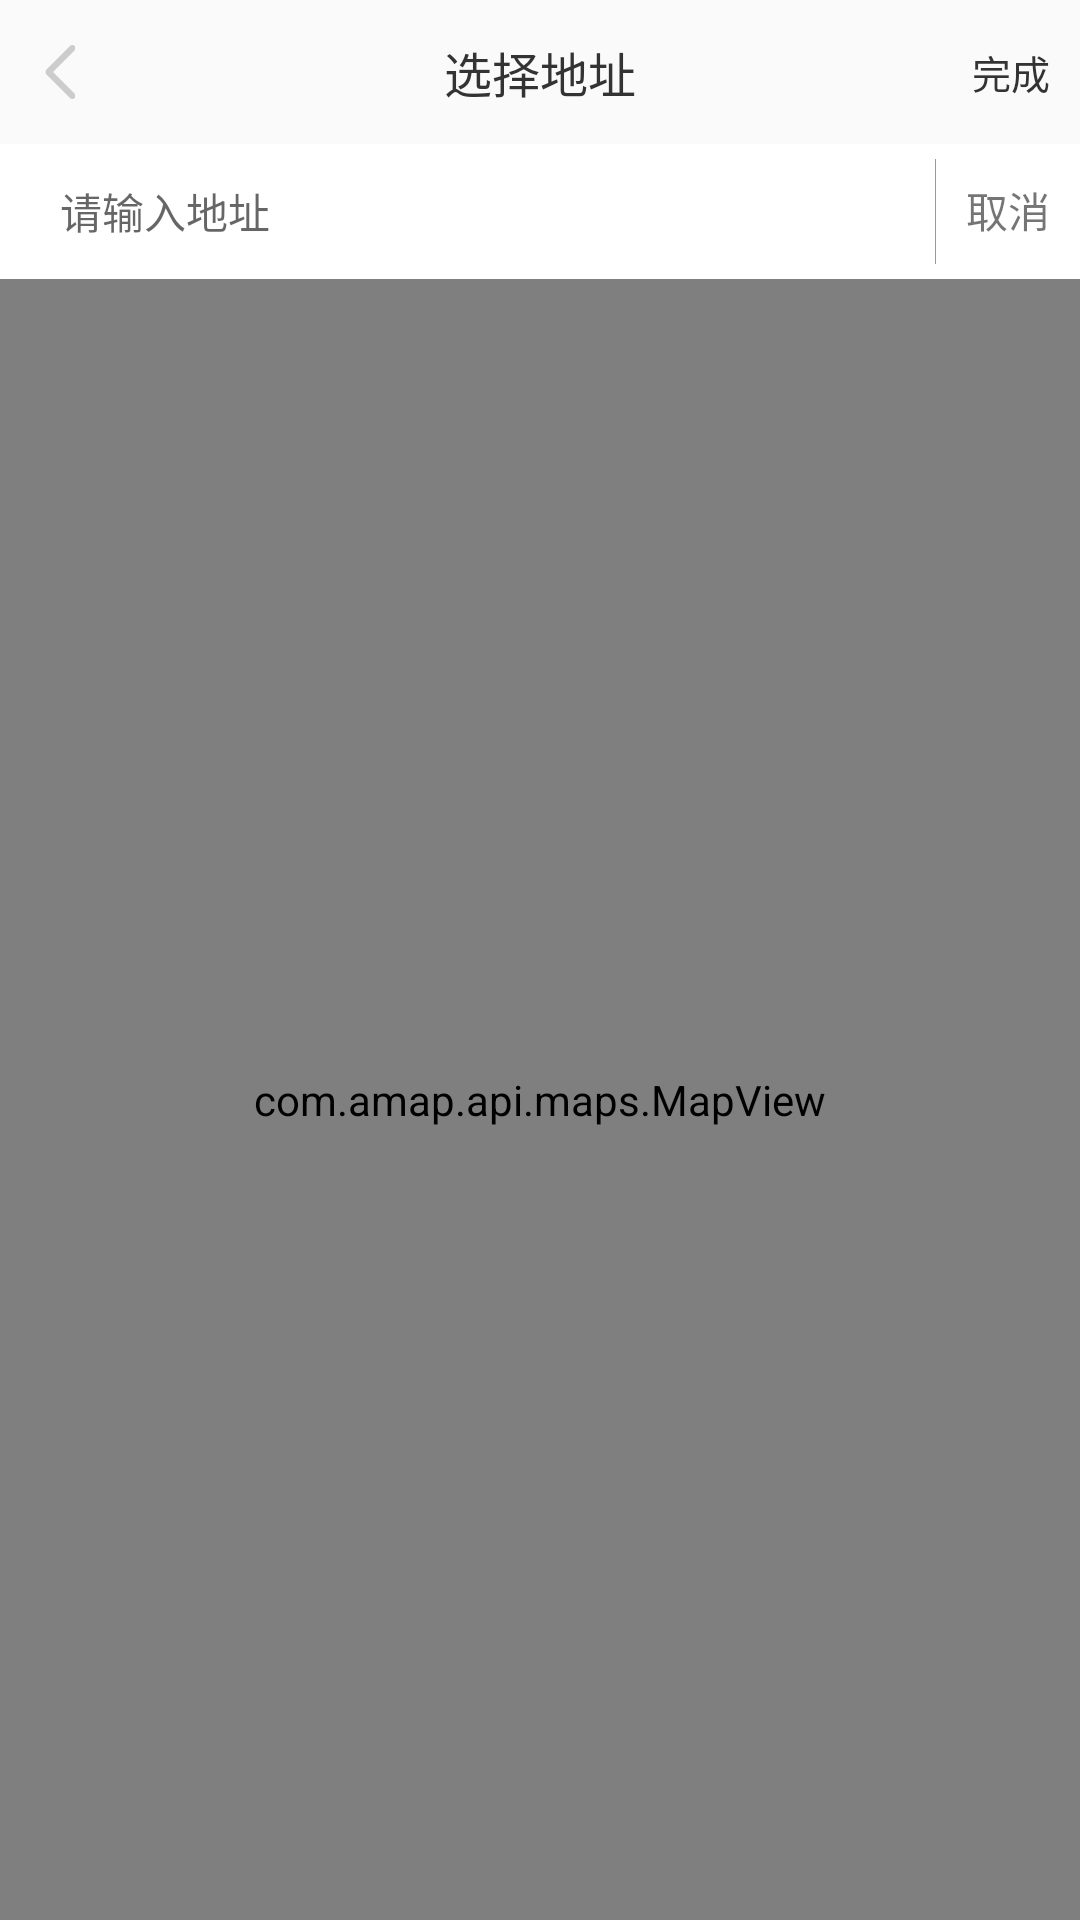

Locate icon controls on the screen. Image size 1080px×1920px, boxes as bbox(x1, y1, x2, y2).
back: bbox(46, 45, 75, 99)
